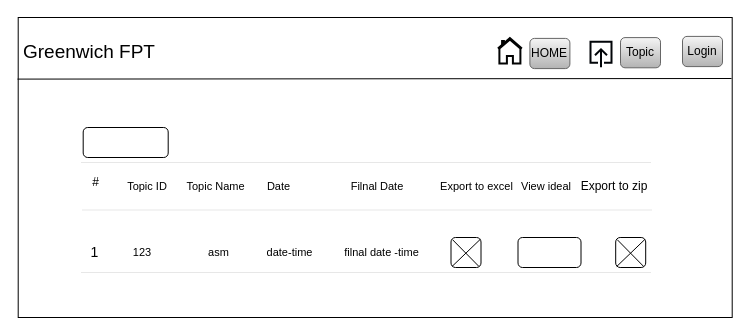
The diagram is 750 pixels wide and 335 high, and some of its shapes have lost their labels. The box of each missing label's shape, as (x1, y1, x2, y2) in pixels:
Create new: (82, 126, 168, 158)
view idea: (517, 236, 581, 268)
